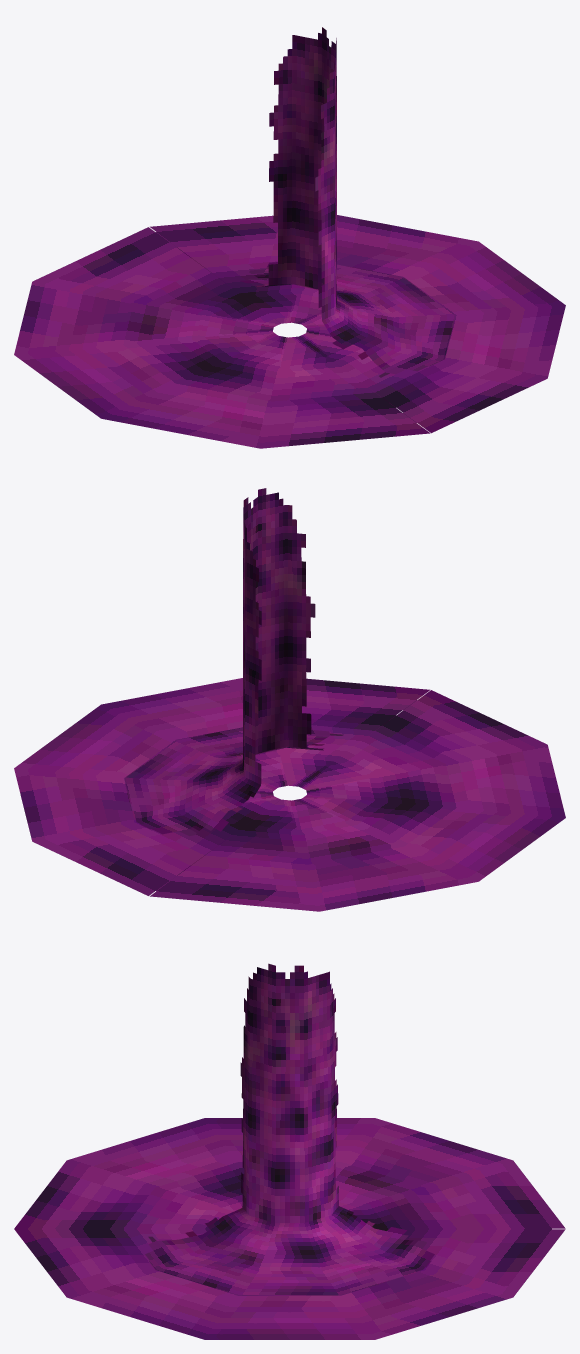
Rendered from eff_enem_MA_Duon_Kagemusi2_pori_S05_M.obj.
The picture shows the model from 3 angles, top to bottom: view 1: azimuth 30°, elevation 25°; view 2: azimuth 150°, elevation 25°; view 3: azimuth 270°, elevation 25°; orthographic projection. The views are drawn at different scales.
Parts seen in each view (by area): view 1: polygon0, polygon1; view 2: polygon0, polygon1; view 3: polygon0, polygon1.
Part boxes in pixels (box(x1,y1,x2,y2)): polygon0: box(14, 215, 565, 448); polygon1: box(240, 27, 455, 377); polygon0: box(14, 678, 565, 911); polygon1: box(124, 488, 343, 836); polygon0: box(14, 1118, 565, 1339); polygon1: box(145, 963, 434, 1295).
Bounding box in the file's own units: 9.24 × 5.61 × 9.71.
2 materials, 2 textured.
